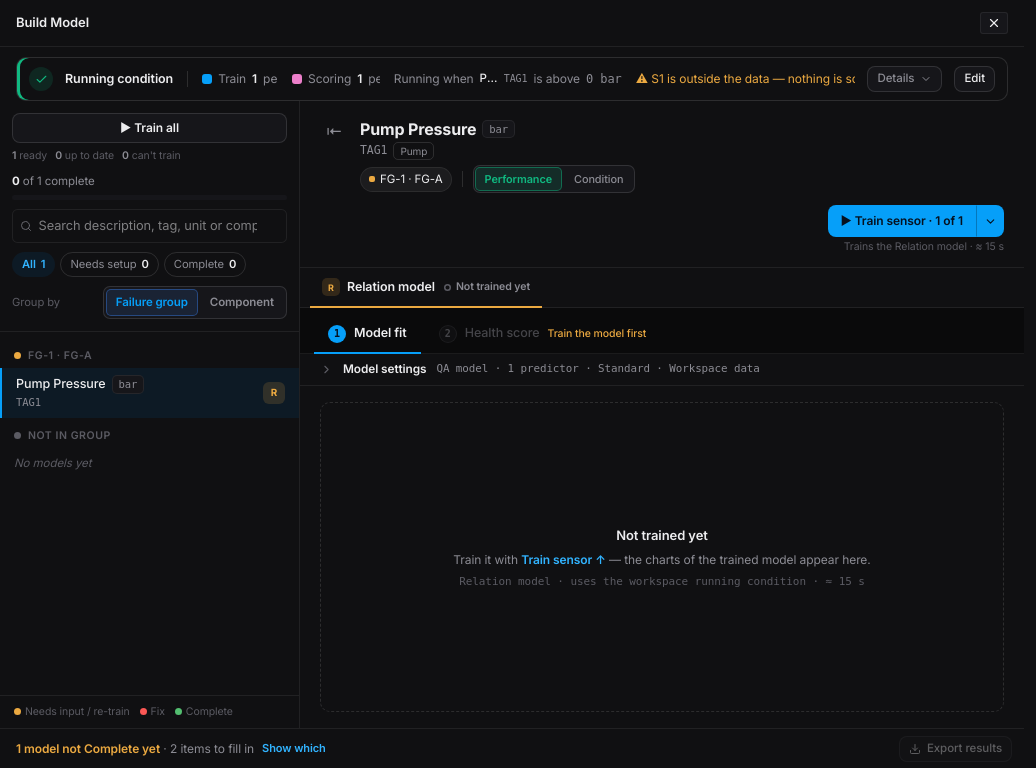
Test case: (1) models whose record carries an empty clusterRanges list stay Trained across a window reopen › Relationship: a fingerprinted edit (stiffness) made in the Workbench makes it stale; the trained charts stay on screen under the banner
The image size is (1036, 768).
Expected: the element with test id "rc-card" is shown, x1=16 y1=57 x2=1008 y2=101
Click the button with test id "train-sensor" at {"x": 902, "y": 221}, box x1=828 y1=205 x2=976 y2=237
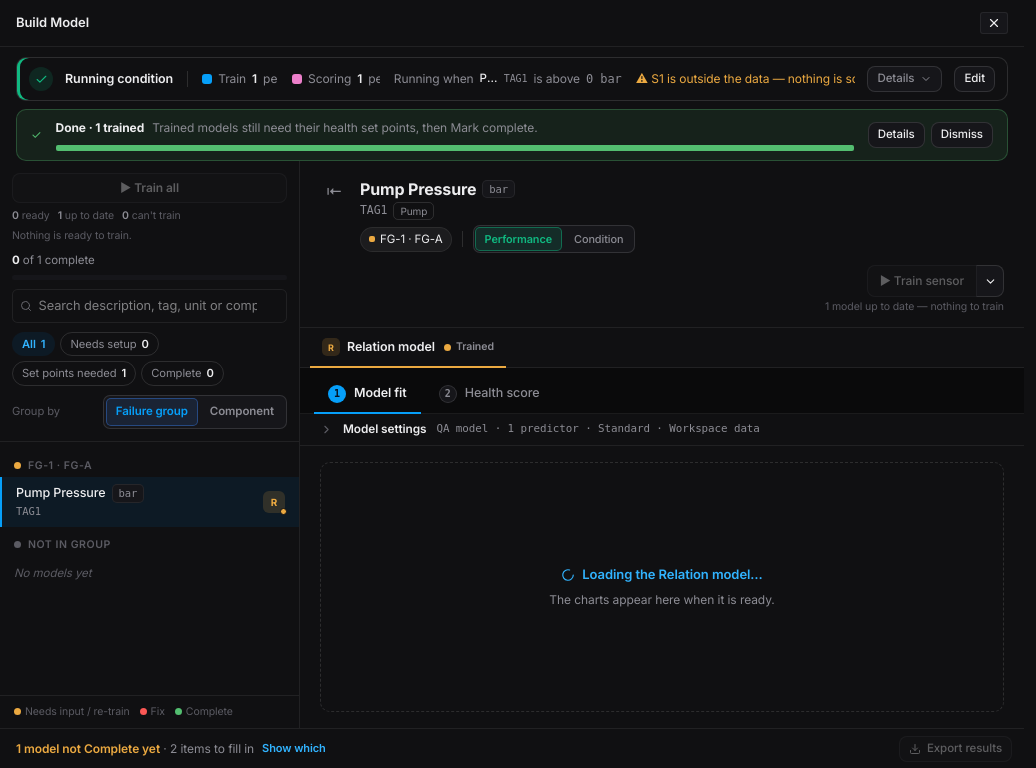
Now the text with test id "tab-words-" reads "Trained", box x1=456 y1=340 x2=494 y2=353
Click the text "Model settings" at {"x": 385, "y": 430}, box x1=343 y1=421 x2=426 y2=438
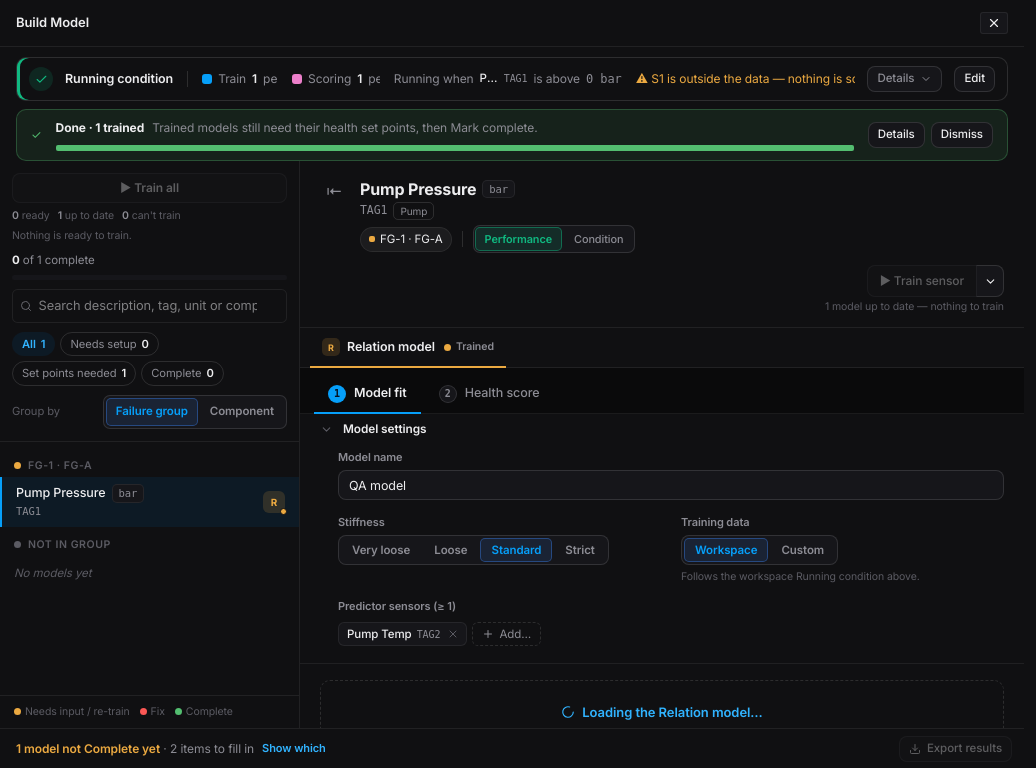
Click the button "Strict" at {"x": 580, "y": 550}, box x1=554 y1=538 x2=606 y2=562
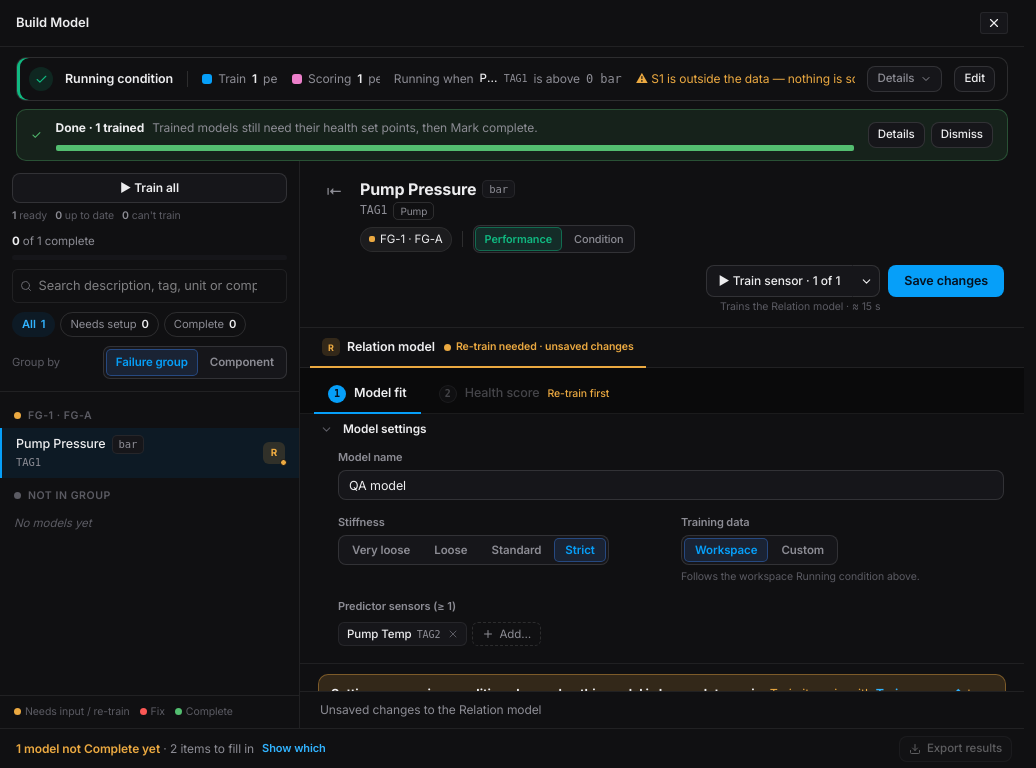
Click the button "Save changes" at {"x": 946, "y": 281}, box x1=888 y1=265 x2=1004 y2=297
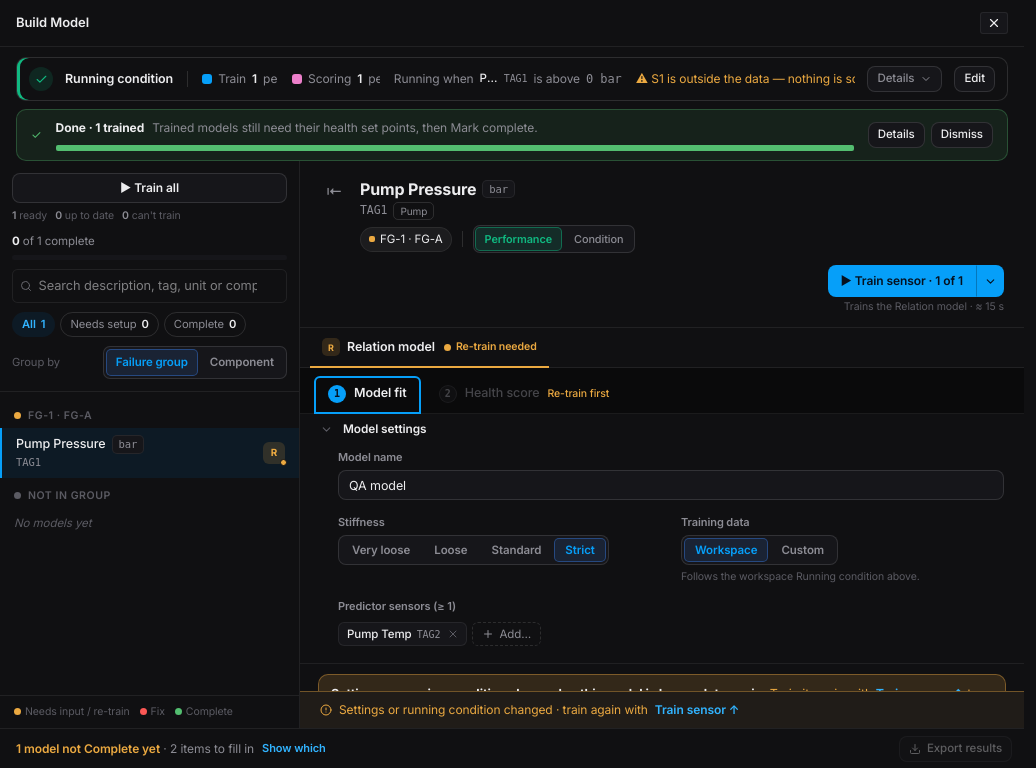
Now the button with test id "train-sensor" is enabled, box x1=828 y1=265 x2=976 y2=297
Now the element with class "wbx-reason" reads "Settings or running condition changed · train again with Train sensor ↑", box x1=320 y1=701 x2=739 y2=719
